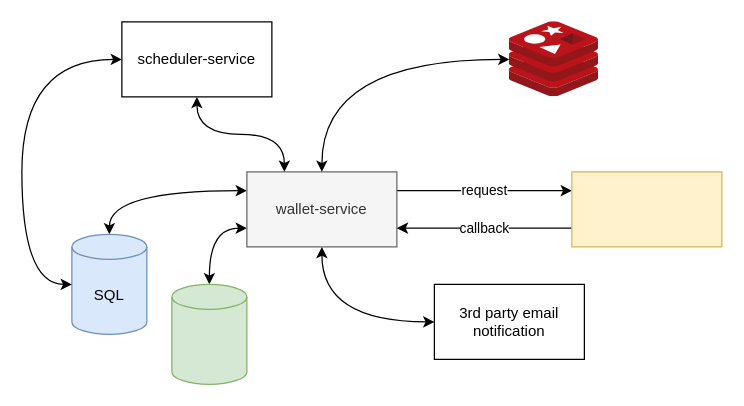
Image size: 744x406. Some labels were removed from this diagram. Each missing label, with the centre of its shape:
"3rd party to send money" goes at point 646,209.
"No SQL" goes at point 209,333.
